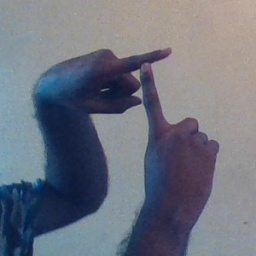T: (83, 38, 205, 148)
